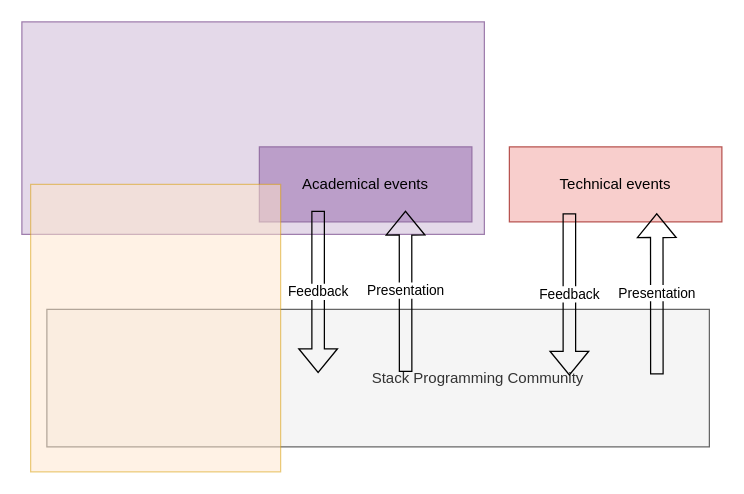
Some shapes in this 744 by 494 pixel diagram are drawn without their labels. Each missing label, with the box of its shape:
Academic Fields: (21, 21, 484, 234)
UEC Programming School: (29, 183, 281, 472)
